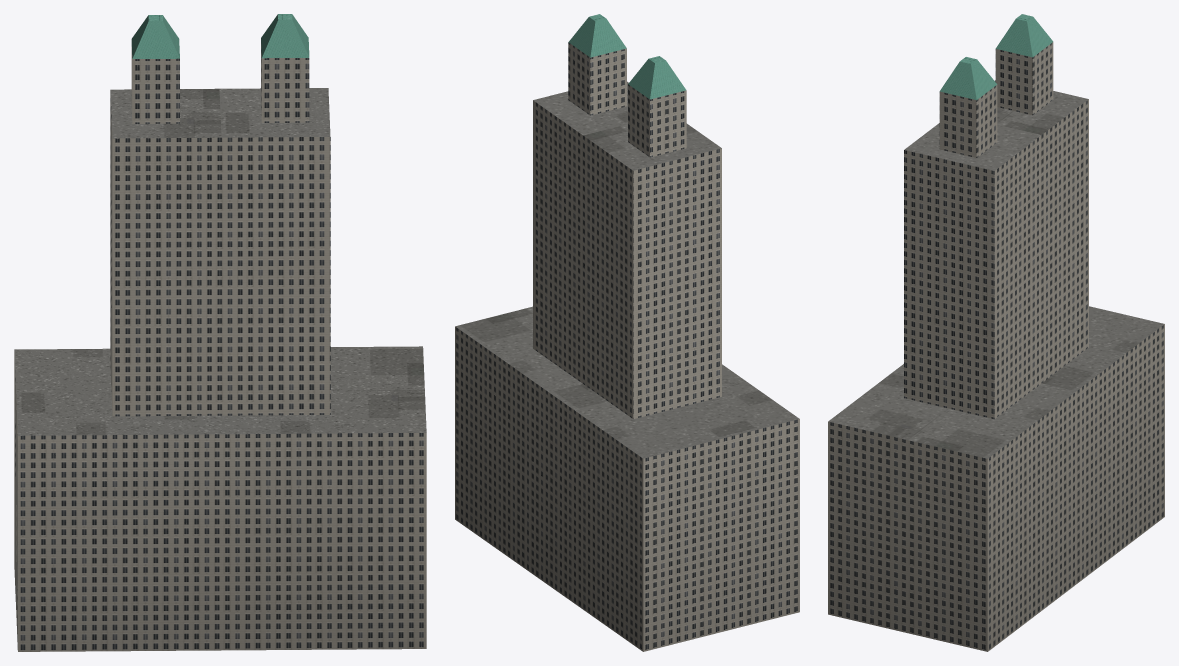
Rendered from waldorfNew.glb.
3 renders of one model, left to right at view 1: azimuth 30°, elevation 25°; view 2: azimuth 150°, elevation 25°; view 3: azimuth 270°, elevation 25°, orthographic. The views are drawn at different scales.
Visible parts, largest first — view 1: waldorfNew; view 2: waldorfNew; view 3: waldorfNew.
Boxes of the visible parts, <box> form: waldorfNew: <box>14,14,426,651</box>; waldorfNew: <box>455,14,799,651</box>; waldorfNew: <box>828,14,1164,651</box>.
Size of the model in its own units: 134 by 191 by 111.
12 materials, 12 textured.
